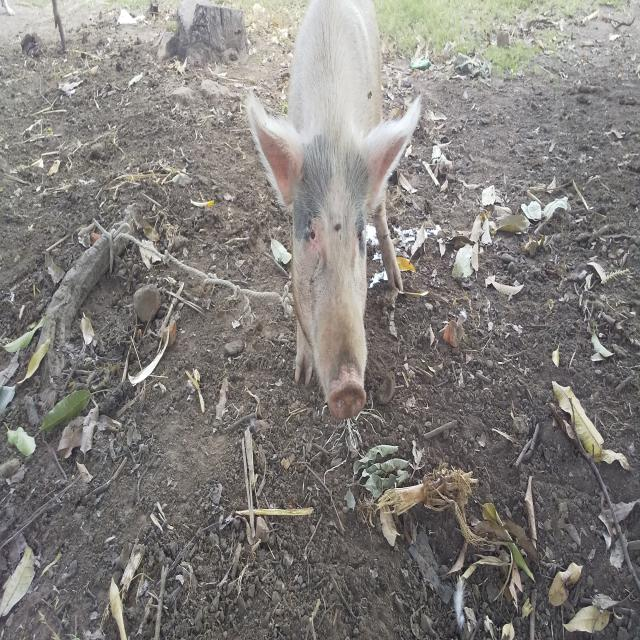pig: (234, 0, 449, 474)
